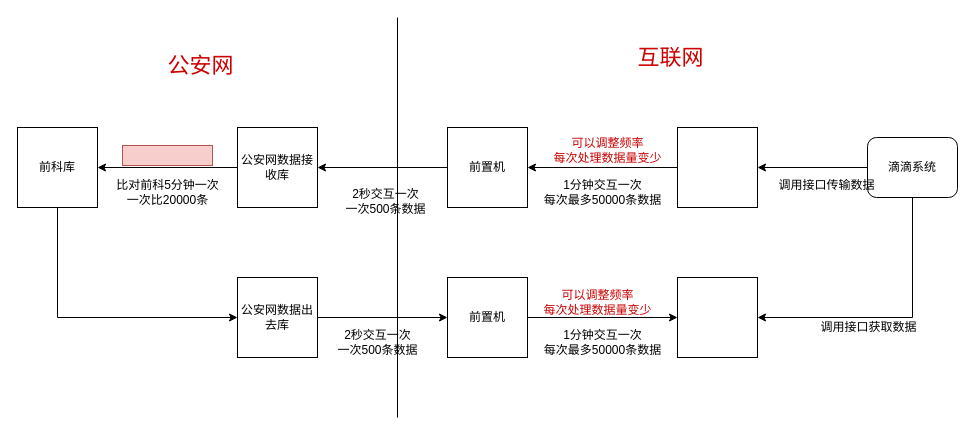
The diagram is 975 pixels wide and 436 high, and some of its shapes have lost their labels. Here are the shapes that lost their labels. From the top down, the centre of each, then its label:
(x=167, y=155): 可调整频率
(x=717, y=167): 互联网数据接收接口
(x=717, y=317): 互联网数据获取接口
